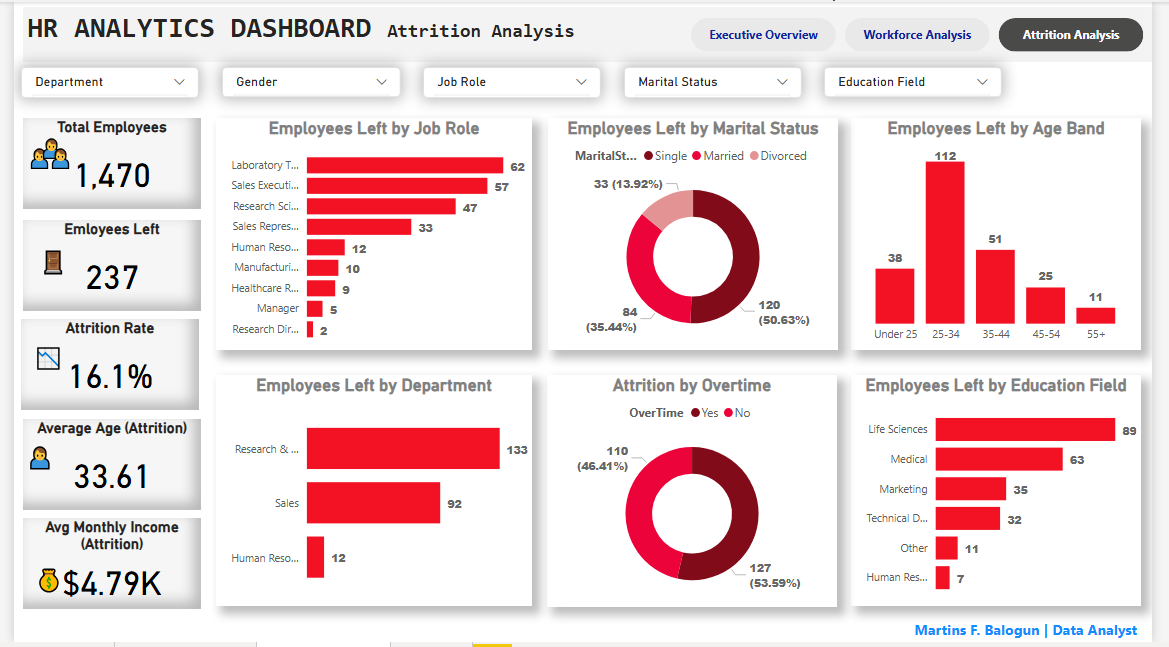

This screenshot's page, from the dashboard's own definition file:
{"tool":"powerbi","page":{"name":"Attrition Analysis","canvas":[1280,720],"ordinal":2},"visuals":[{"type":"textbox","box":[10.1,5.6,1270.1,61.9],"z":0},{"type":"textbox","box":[11.4,155.3,45.9,52.3],"z":0,"group":"g5"},{"type":"clusteredBarChart","title":"Employees Left by Job Role","fields":{"Category":["HR Analytics Data.JobRole"],"Y":["All Measures.Employees Left"]},"box":[226.9,130,355.7,261.4],"z":1000},{"type":"textbox","box":[24.9,143.8,46.1,47.2],"z":1000,"group":"g5"},{"type":"card","title":"Average Age (Attrition)","fields":{"Values":["All Measures.Average Age (Attrition)"]},"box":[10.3,468.9,200.2,102],"z":1000,"group":"g3"},{"type":"card","title":"Total Employees","fields":{"Values":["All Measures.Total Employees"]},"box":[10.2,130,200.2,102],"z":2000},{"type":"columnChart","title":"Employees Left by Age Band","fields":{"Y":["All Measures.Employees Left"],"Category":["HR Analytics Data.Age Band"]},"box":[942.2,130,326.4,261.4],"z":2000},{"type":"textbox","box":[35,155,46.1,47.2],"z":2000,"group":"g5"},{"type":"card","title":"Emloyees Left","fields":{"Values":["All Measures.Employees Left"]},"box":[10.2,245.2,200.2,102.4],"z":2000,"group":"g1"},{"type":"card","title":"Attrition Rate","fields":{"Values":["All Measures.Attrition Rate"]},"box":[7.6,356.7,200.2,102.4],"z":3000,"group":"g2"},{"type":"donutChart","title":"Attrition by Overtime","fields":{"Y":["All Measures.Employees Left"],"Category":["HR Analytics Data.OverTime"]},"box":[599.2,419.4,326.4,261.4],"z":3000},{"type":"clusteredBarChart","title":"Employees Left by Department","fields":{"Category":["HR Analytics Data.Department"],"Y":["All Measures.Employees Left"]},"box":[226.9,419.4,355.7,260.1],"z":4000},{"type":"card","title":"Avg Monthly Income (Attrition)","fields":{"Values":["All Measures.Average Income (Attrition)"]},"box":[10.2,580.1,200.2,102],"z":4000,"group":"g4"},{"type":"slicer","title":"Department","fields":{"Values":["HR Analytics Data.Department"]},"box":[7.9,73.7,200.2,34.9],"z":5000},{"type":"slicer","title":"Department","fields":{"Values":["HR Analytics Data.Gender"]},"box":[233.5,73.7,201.4,34.4],"z":6000},{"type":"slicer","title":"Department","fields":{"Values":["HR Analytics Data.JobRole"]},"box":[460.4,73.7,200.2,35],"z":7000},{"type":"slicer","title":"Department","fields":{"Values":["HR Analytics Data.MaritalStatus"]},"box":[686,73.7,200.2,35],"z":8000},{"type":"slicer","title":"Department","fields":{"Values":["HR Analytics Data.EducationField"]},"box":[911.6,73.7,200.2,34.4],"z":9000},{"type":"textbox","box":[870.8,689.7,397.8,30.6],"z":10000},{"type":"pageNavigator","box":[761.1,17.8,510,38.2],"z":11000},{"type":"donutChart","title":"Employees Left by Marital Status","fields":{"Y":["All Measures.Employees Left"],"Category":["HR Analytics Data.MaritalStatus"]},"box":[600.5,130,326.4,261.4],"z":12000},{"type":"clusteredBarChart","title":"Employees Left by Education Field","fields":{"Category":["HR Analytics Data.EducationField"],"Y":["All Measures.Employees Left"]},"box":[942.2,419.4,326.4,260.1],"z":13000},{"type":"group","id":"g1","title":"Group 1","box":[10.2,245.2,200.2,102.4],"z":14000},{"type":"group","id":"g2","title":"Group 2","box":[7.6,356.7,200.2,102.4],"z":15000},{"type":"group","id":"g3","title":"Group 3","box":[10.2,468.9,200.2,102],"z":16000},{"type":"textbox","box":[10.2,488.9,46.1,47.2],"z":16000,"group":"g3"},{"type":"textbox","box":[25.9,270,46.1,47.2],"z":17000,"group":"g1"},{"type":"group","id":"g4","title":"Group 5","box":[10.2,580.1,200.2,102],"z":17000},{"type":"textbox","box":[17.7,378.1,46.1,47.2],"z":18000,"group":"g2"},{"type":"textbox","box":[20.3,627.8,46.1,47.2],"z":19000,"group":"g4"},{"type":"group","id":"g5","title":"Group 1","box":[11.4,143.8,69.8,63.7],"z":22005}]}

Visuals, with their boxes in screenshot pixels (x1, y1, x2, y2), scaled from the page's 1280x720 canvas onto the 1169x647 screenshot:
textbox: (left=9, top=5, right=1168, bottom=61)
textbox: (left=10, top=140, right=52, bottom=187)
"Employees Left by Job Role" clusteredBarChart: (left=207, top=117, right=532, bottom=352)
textbox: (left=23, top=129, right=65, bottom=172)
"Average Age (Attrition)" card: (left=9, top=421, right=192, bottom=513)
"Total Employees" card: (left=9, top=117, right=192, bottom=208)
"Employees Left by Age Band" columnChart: (left=860, top=117, right=1159, bottom=352)
textbox: (left=32, top=139, right=74, bottom=182)
"Emloyees Left" card: (left=9, top=220, right=192, bottom=312)
"Attrition Rate" card: (left=7, top=321, right=190, bottom=413)
"Attrition by Overtime" donutChart: (left=547, top=377, right=845, bottom=612)
"Employees Left by Department" clusteredBarChart: (left=207, top=377, right=532, bottom=611)
"Avg Monthly Income (Attrition)" card: (left=9, top=521, right=192, bottom=613)
"Department" slicer: (left=7, top=66, right=190, bottom=98)
"Department" slicer: (left=213, top=66, right=397, bottom=97)
"Department" slicer: (left=420, top=66, right=603, bottom=98)
"Department" slicer: (left=627, top=66, right=809, bottom=98)
"Department" slicer: (left=833, top=66, right=1015, bottom=97)
textbox: (left=795, top=620, right=1159, bottom=646)
pageNavigator: (left=695, top=16, right=1161, bottom=50)
"Employees Left by Marital Status" donutChart: (left=548, top=117, right=847, bottom=352)
"Employees Left by Education Field" clusteredBarChart: (left=860, top=377, right=1159, bottom=611)
"Group 1" group: (left=9, top=220, right=192, bottom=312)
"Group 2" group: (left=7, top=321, right=190, bottom=413)
"Group 3" group: (left=9, top=421, right=192, bottom=513)
textbox: (left=9, top=439, right=51, bottom=482)
textbox: (left=24, top=243, right=66, bottom=285)
"Group 5" group: (left=9, top=521, right=192, bottom=613)
textbox: (left=16, top=340, right=58, bottom=382)
textbox: (left=19, top=564, right=61, bottom=607)
"Group 1" group: (left=10, top=129, right=74, bottom=186)
